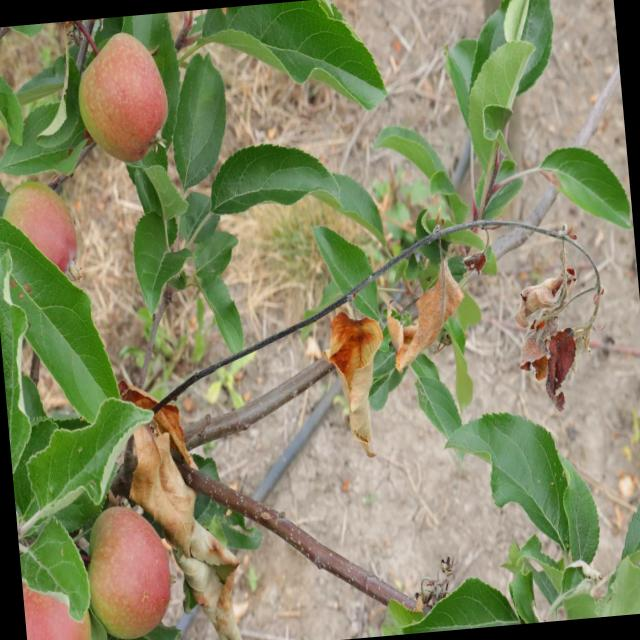-FireBlight-: (108, 371, 249, 640), (320, 259, 459, 453), (507, 273, 585, 413)
